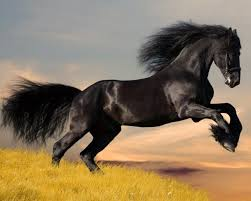horse: (7, 21, 241, 173)
